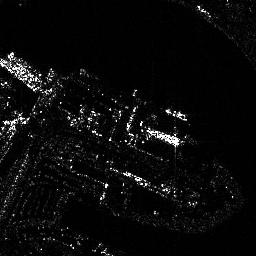ship: (7, 51, 45, 80), (164, 108, 190, 121)
